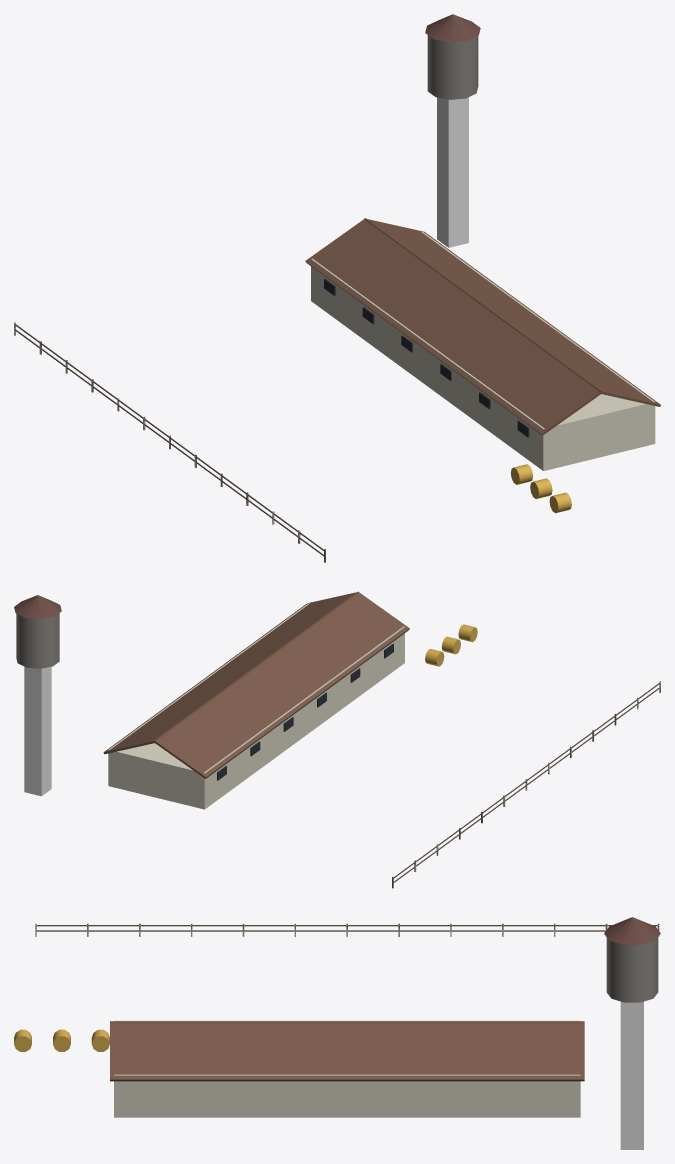
The model's file is mark-farm.glb.
3 views of the same model, one above another, from view 1: azimuth 30°, elevation 25°; view 2: azimuth 150°, elevation 25°; view 3: azimuth 270°, elevation 25° (orthographic). The views are drawn at different scales.
Parts seen in each view (by area): view 1: 02_#7a5a4a, 01_#d8d4c4, solid.001, 04_#8a8580, 07_#6a5a48_noshadow, 00_#d8b050_r320, 05_#6a4a44, 03_#2e333b_noshadow_r320; view 2: 02_#7a5a4a, 01_#d8d4c4, solid.001, 04_#8a8580, 07_#6a5a48_noshadow, 00_#d8b050_r320, 05_#6a4a44, 03_#2e333b_noshadow_r320; view 3: 02_#7a5a4a, 01_#d8d4c4, solid.001, 04_#8a8580, 07_#6a5a48_noshadow, 05_#6a4a44, 00_#d8b050_r320.
Boxes of the visible parts, x1,y1,x2,y2 form: 02_#7a5a4a: [305, 218, 660, 435]; 01_#d8d4c4: [311, 231, 655, 470]; solid.001: [437, 97, 468, 247]; 04_#8a8580: [427, 35, 478, 99]; 07_#6a5a48_noshadow: [15, 324, 323, 556]; 00_#d8b050_r320: [511, 464, 571, 513]; 05_#6a4a44: [425, 14, 480, 42]; 03_#2e333b_noshadow_r320: [324, 279, 529, 437]; 02_#7a5a4a: [103, 591, 409, 778]; 01_#d8d4c4: [108, 603, 404, 809]; solid.001: [24, 666, 51, 796]; 04_#8a8580: [16, 613, 59, 668]; 07_#6a5a48_noshadow: [394, 683, 659, 882]; 00_#d8b050_r320: [425, 624, 477, 666]; 05_#6a4a44: [14, 595, 61, 619]; 03_#2e333b_noshadow_r320: [217, 644, 393, 780]; 02_#7a5a4a: [110, 1021, 584, 1081]; 01_#d8d4c4: [114, 1020, 580, 1117]; solid.001: [620, 1001, 643, 1149]; 04_#8a8580: [606, 937, 658, 1002]; 07_#6a5a48_noshadow: [36, 925, 657, 931]; 05_#6a4a44: [604, 917, 660, 944]; 00_#d8b050_r320: [14, 1029, 109, 1051].
Bounding box in the file's own units: 40.15 × 19.4 × 49.9.
